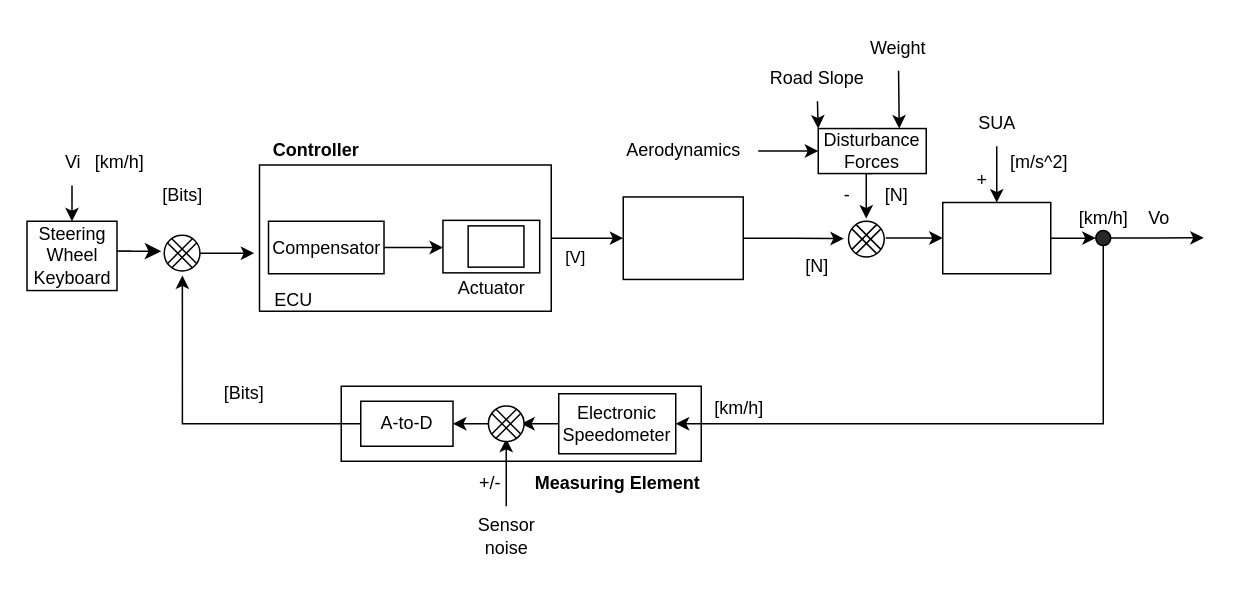
Image size: 1242x591. Some labels were removed from this diagram. Each missing label, with the box of its shape:
ETC: (467, 224, 524, 267)
Motor: (622, 195, 743, 279)
Vehicle Dynamics: (941, 201, 1051, 274)
